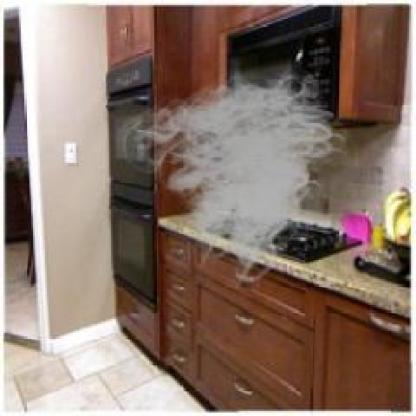Smoke: (113, 59, 355, 288)
